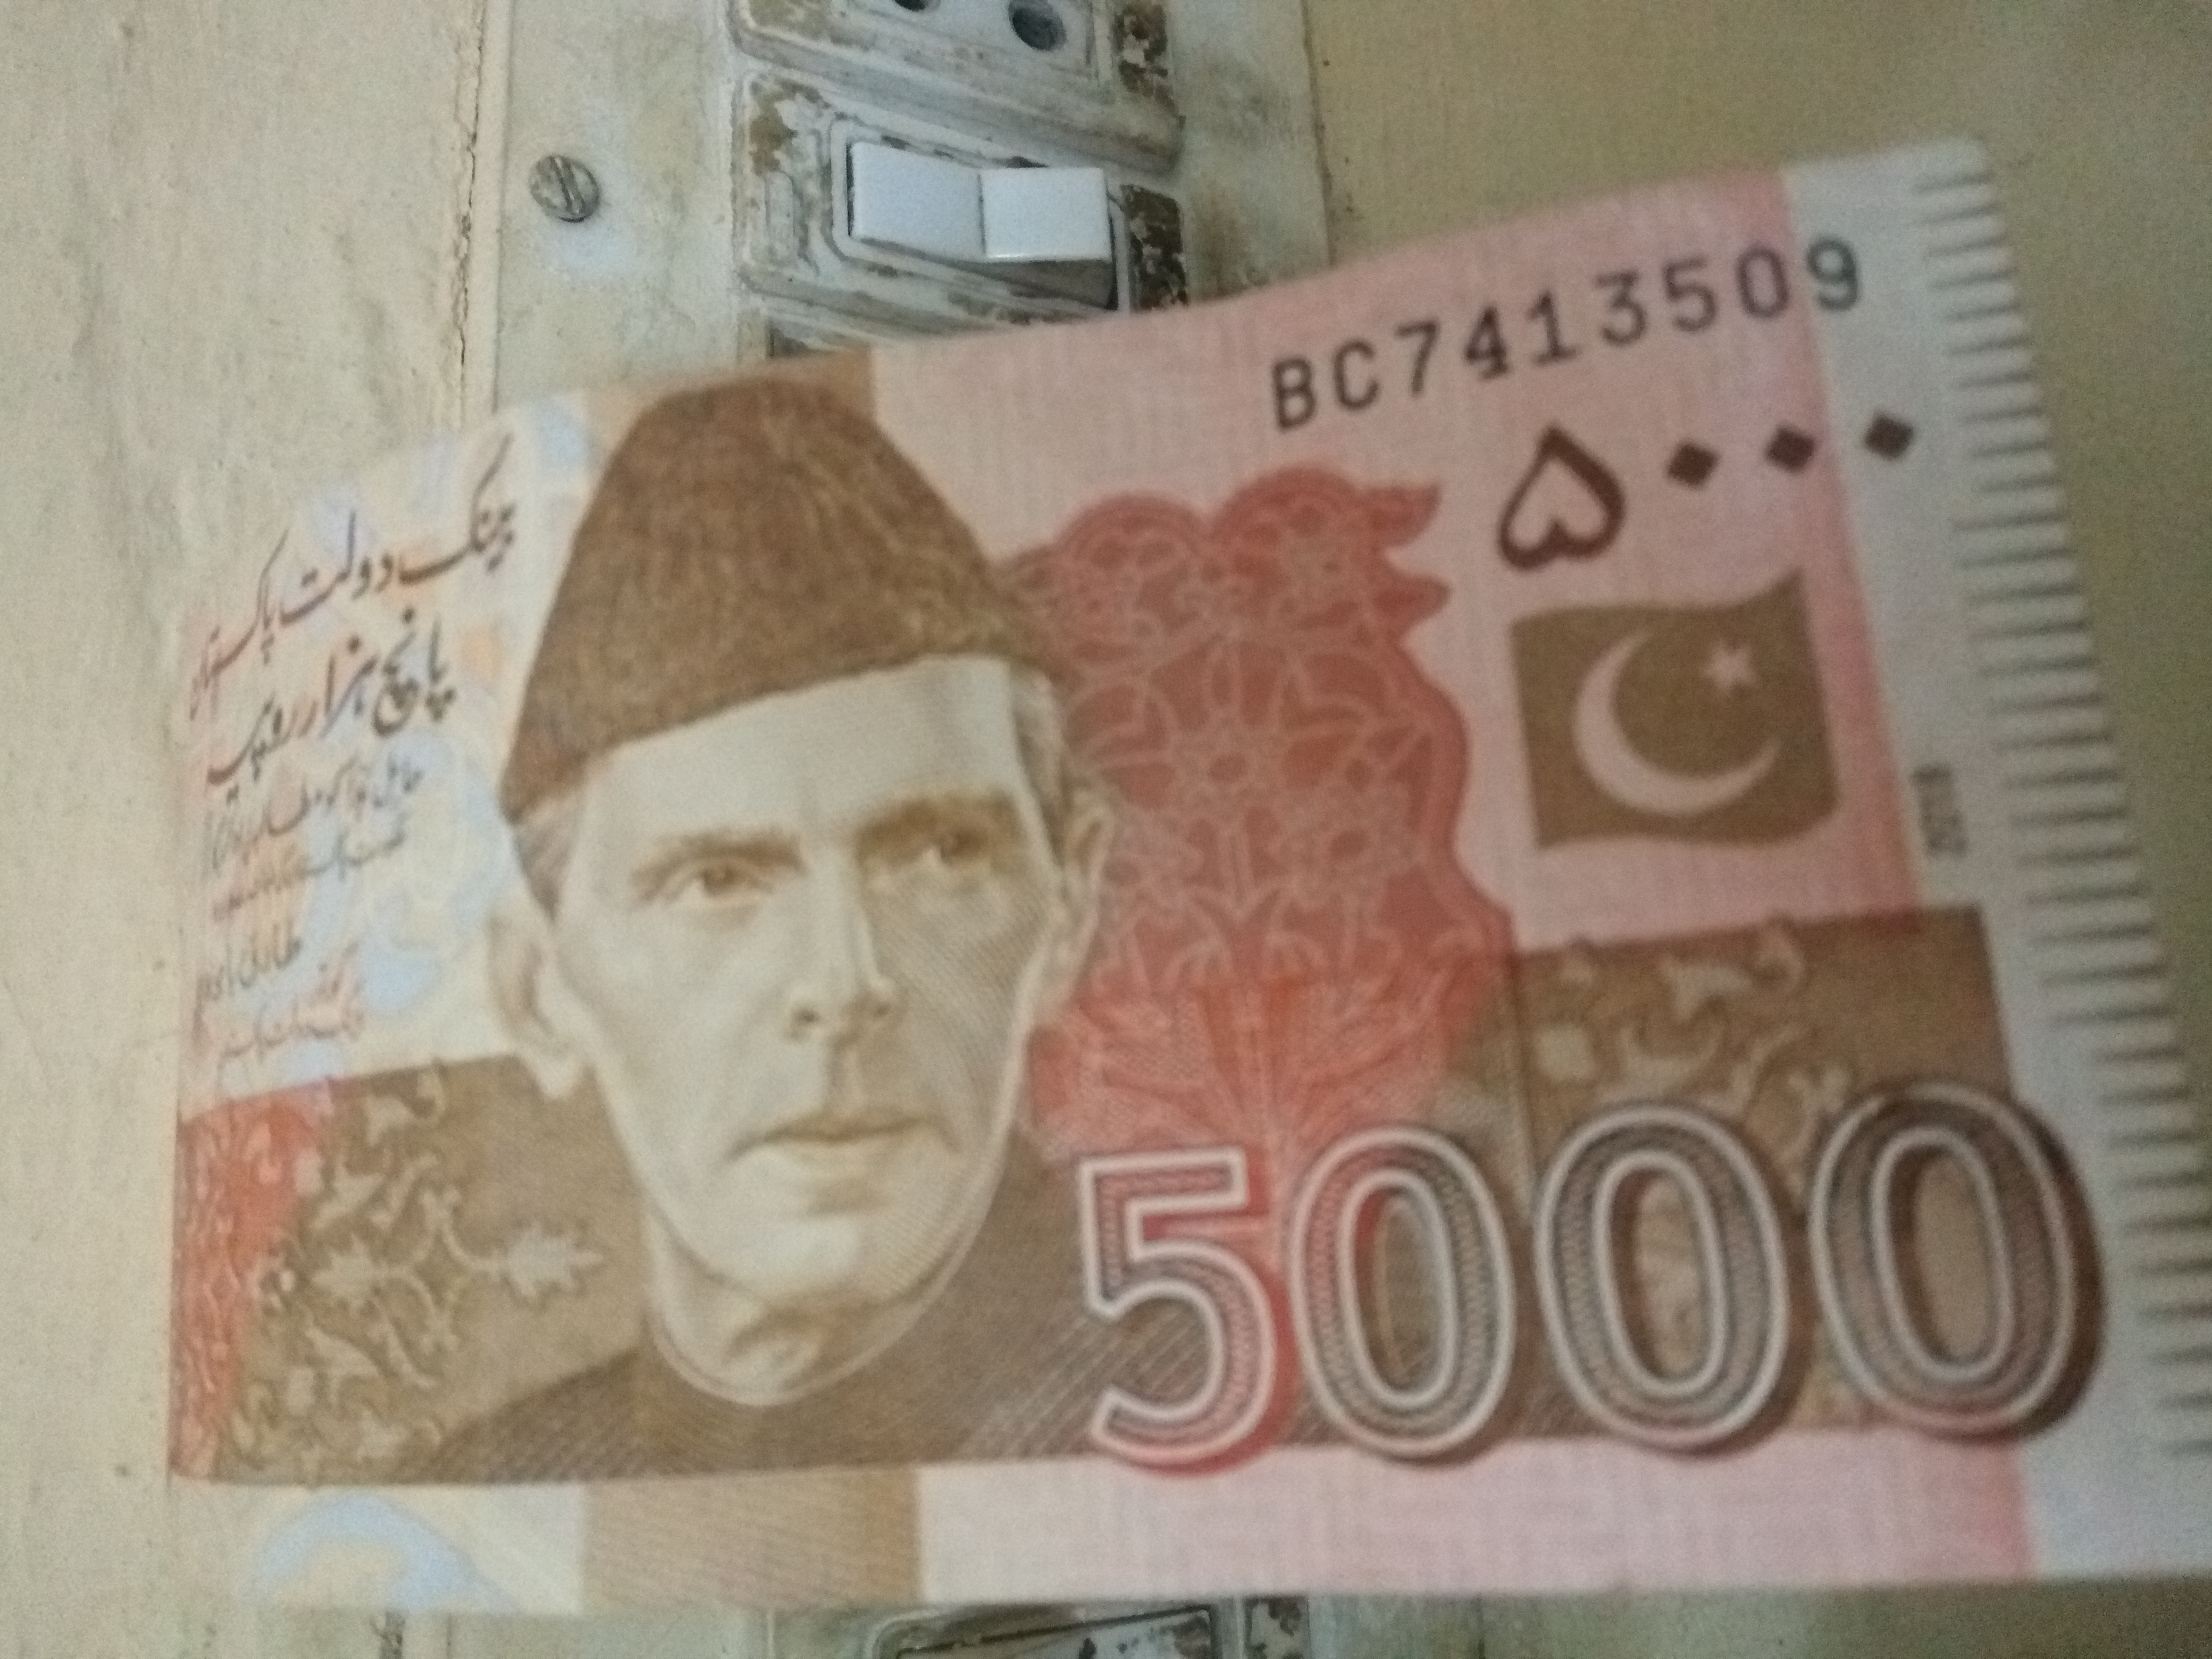5000 rupee: (89, 145, 2158, 1563)
